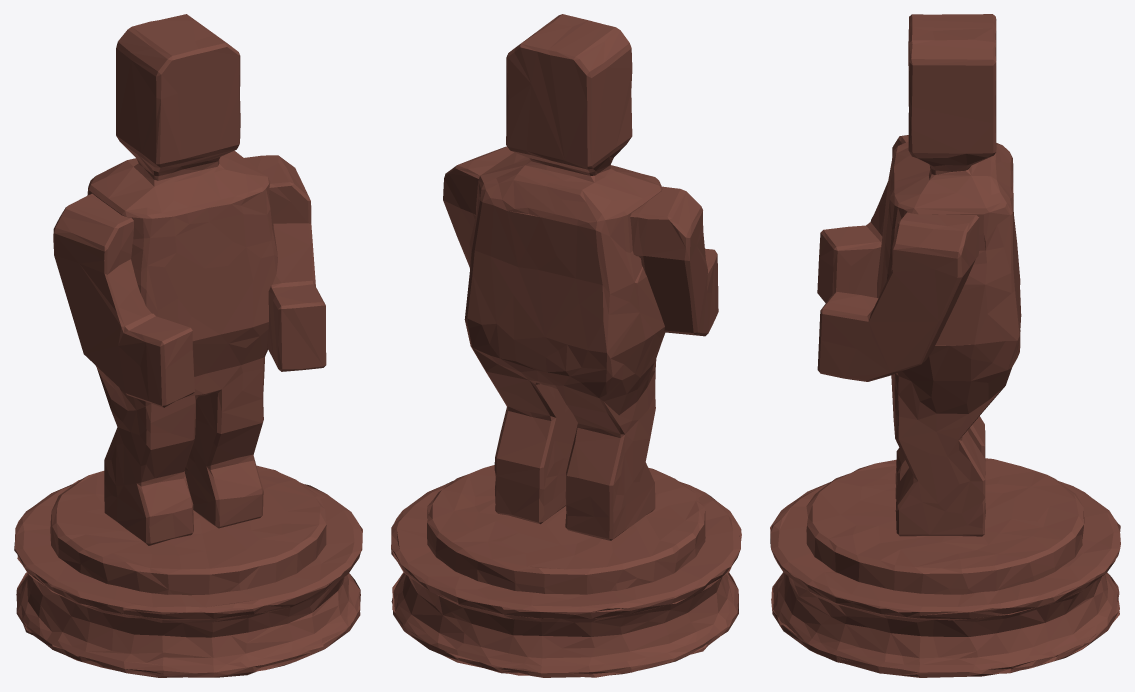
File: tempBoardPiece.fbx
The picture shows the model from 3 angles, left to right: view 1: azimuth 30°, elevation 25°; view 2: azimuth 150°, elevation 25°; view 3: azimuth 270°, elevation 25°; orthographic projection.
Parts seen in each view (by area): view 1: base, model; view 2: base, model; view 3: base, model.
Boxes of the visible parts, x1,y1,x2,y2 form: base: (53, 14, 326, 545); model: (14, 465, 362, 677); base: (443, 14, 718, 540); model: (391, 465, 741, 677); base: (817, 14, 1021, 536); model: (770, 458, 1120, 677).
Size of the model in its own units: 633 by 1149 by 633.
